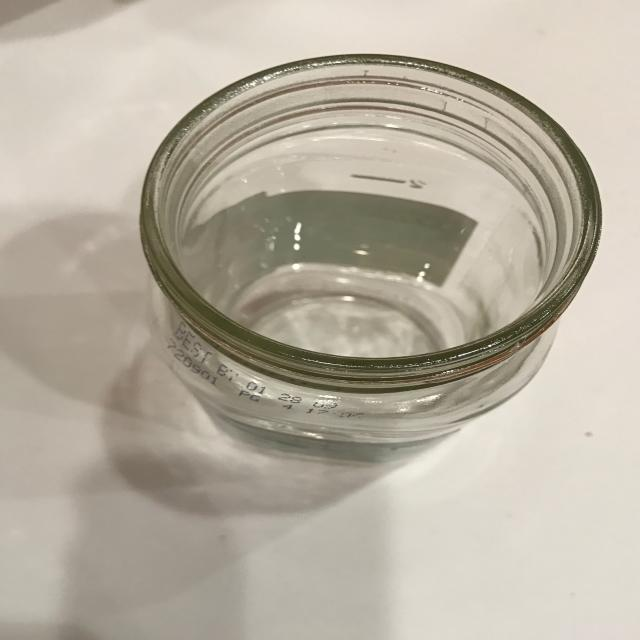glass: (137, 52, 603, 460)
